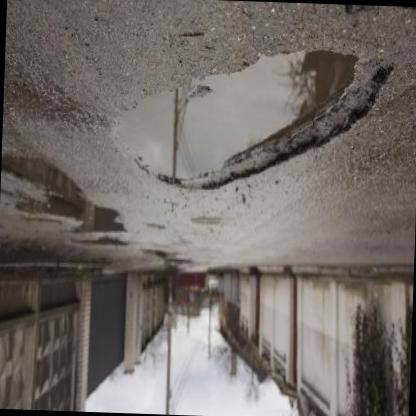pothole: (109, 41, 392, 202)
